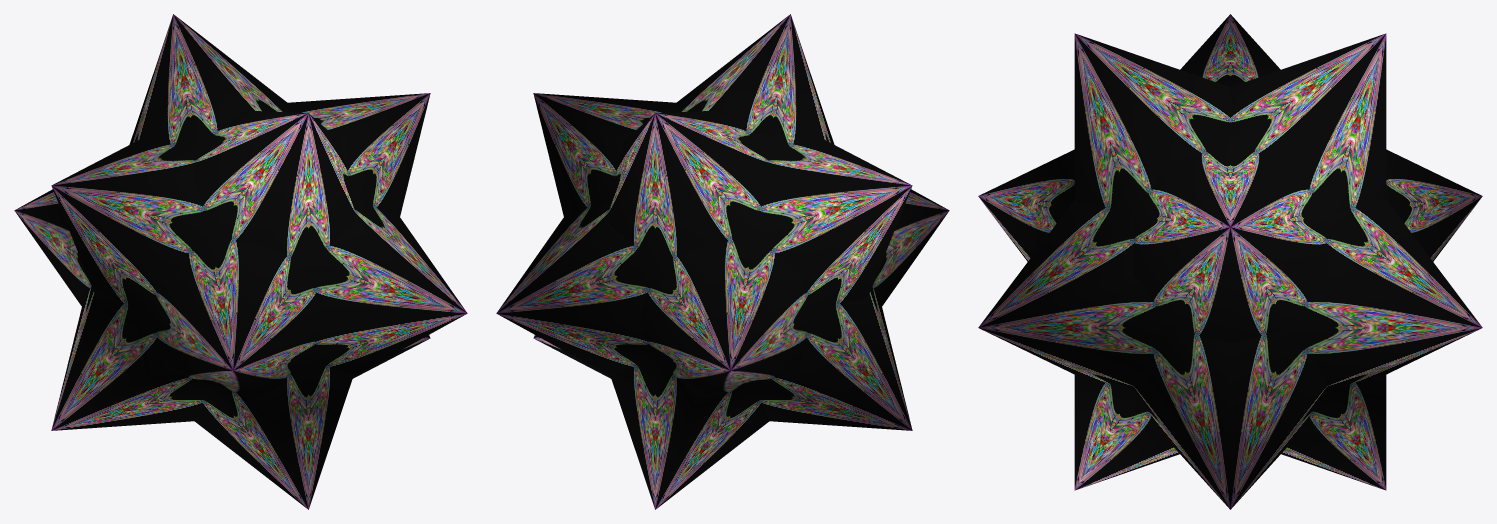
File: 5MedialRhombicTriacontahedron.gltf
The picture shows the model from 3 angles, left to right: view 1: azimuth 30°, elevation 25°; view 2: azimuth 150°, elevation 25°; view 3: azimuth 270°, elevation 25°; orthographic projection. The views are drawn at different scales.
Parts seen in each view (by area): view 1: MedialRhombicTriacontahedron9; view 2: MedialRhombicTriacontahedron9; view 3: MedialRhombicTriacontahedron9.
Part boxes in pixels (<box>): MedialRhombicTriacontahedron9: <box>14,14,467,509</box>; MedialRhombicTriacontahedron9: <box>496,14,949,509</box>; MedialRhombicTriacontahedron9: <box>978,14,1482,509</box>.
Size of the model in its own units: 2.43 by 2.43 by 2.43.
Materials: 1 (1 with a texture image).
